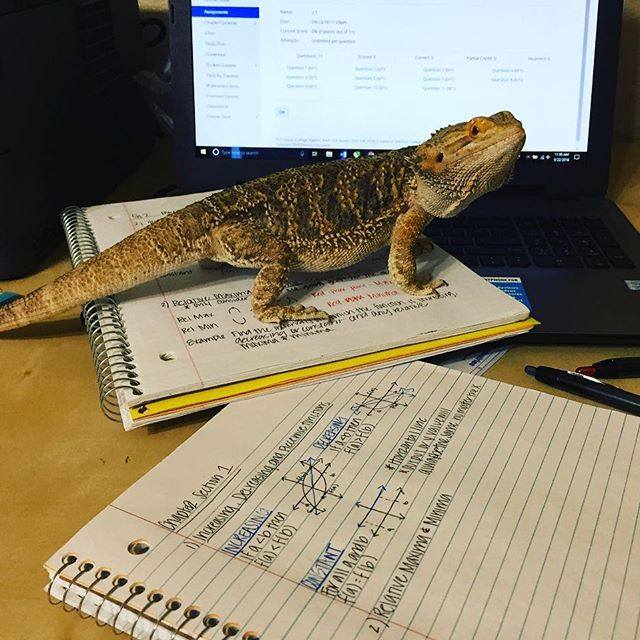bearded: (1, 108, 531, 341)
